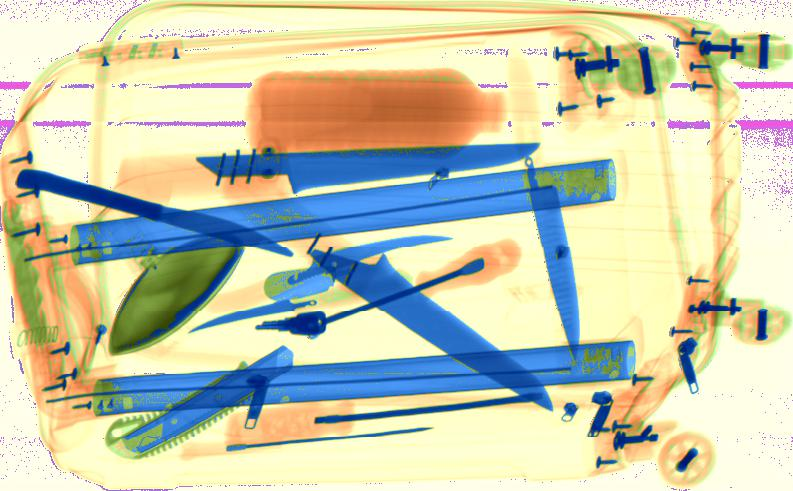Knife: (298, 239, 555, 413), (15, 166, 296, 258), (171, 140, 543, 196), (517, 157, 581, 359), (288, 234, 454, 286), (188, 287, 345, 335), (261, 268, 339, 303)
